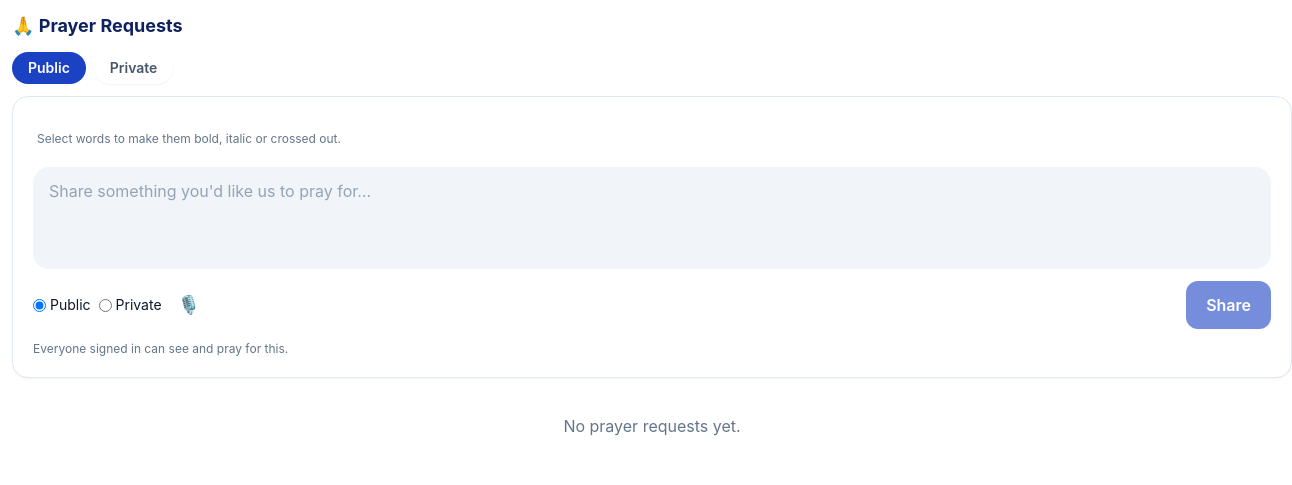
Test case: PrayerRequests — composing › shows a clear message when the author has no Community yet
The width and height of the screenshot is (1292, 485).
Expected: the text "No prayer requests yet." is shown, x1=563 y1=416 x2=741 y2=436
Type "x" into the text box named "Share a prayer request" at (652, 215), box x1=33 y1=167 x2=1271 y2=263
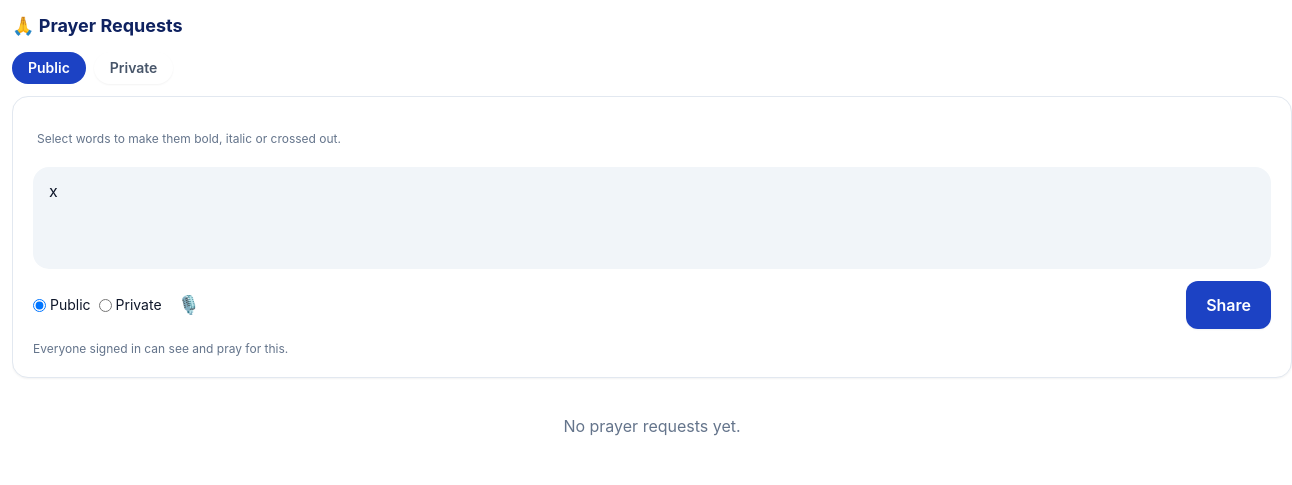
Click the radio button labelled "Private" at (105, 305), box x1=99 y1=298 x2=112 y2=312
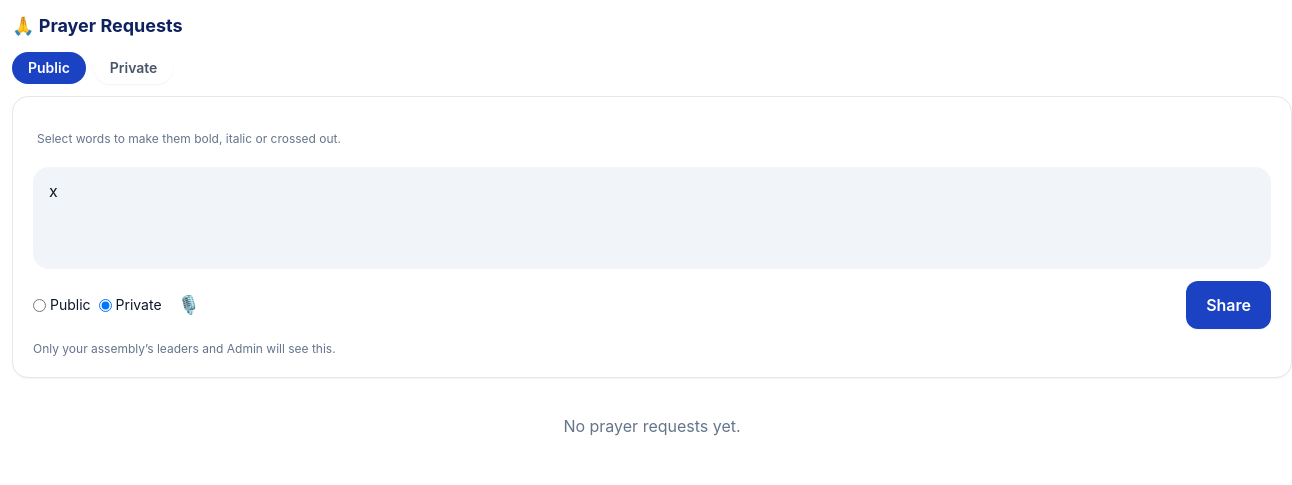
Click the button "Share" at (1229, 305), box x1=1186 y1=281 x2=1271 y2=329
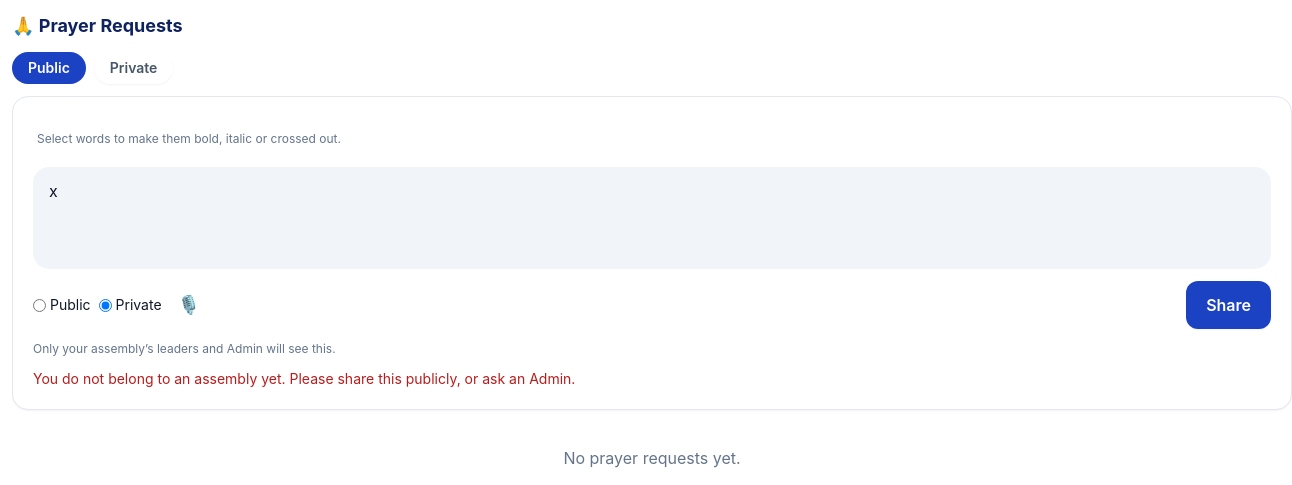
Expected: the text "You do not belong to an assembly yet. Please share this publicly, or ask an Admin." is shown, x1=33 y1=370 x2=575 y2=387
